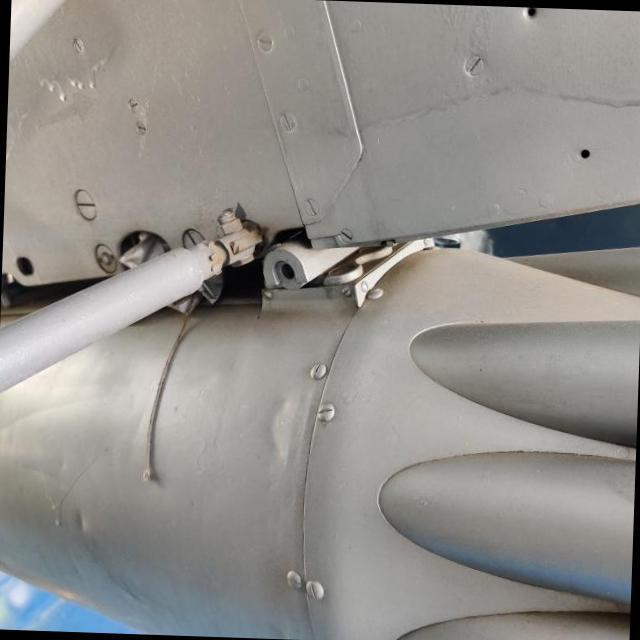Dent: (247, 388, 316, 469)
